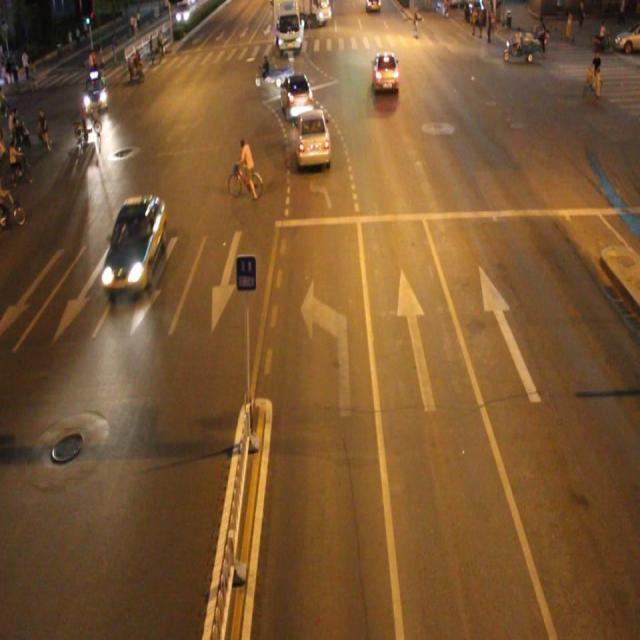car: (103, 195, 164, 298), (295, 104, 334, 164), (280, 67, 316, 119), (372, 52, 399, 93)
